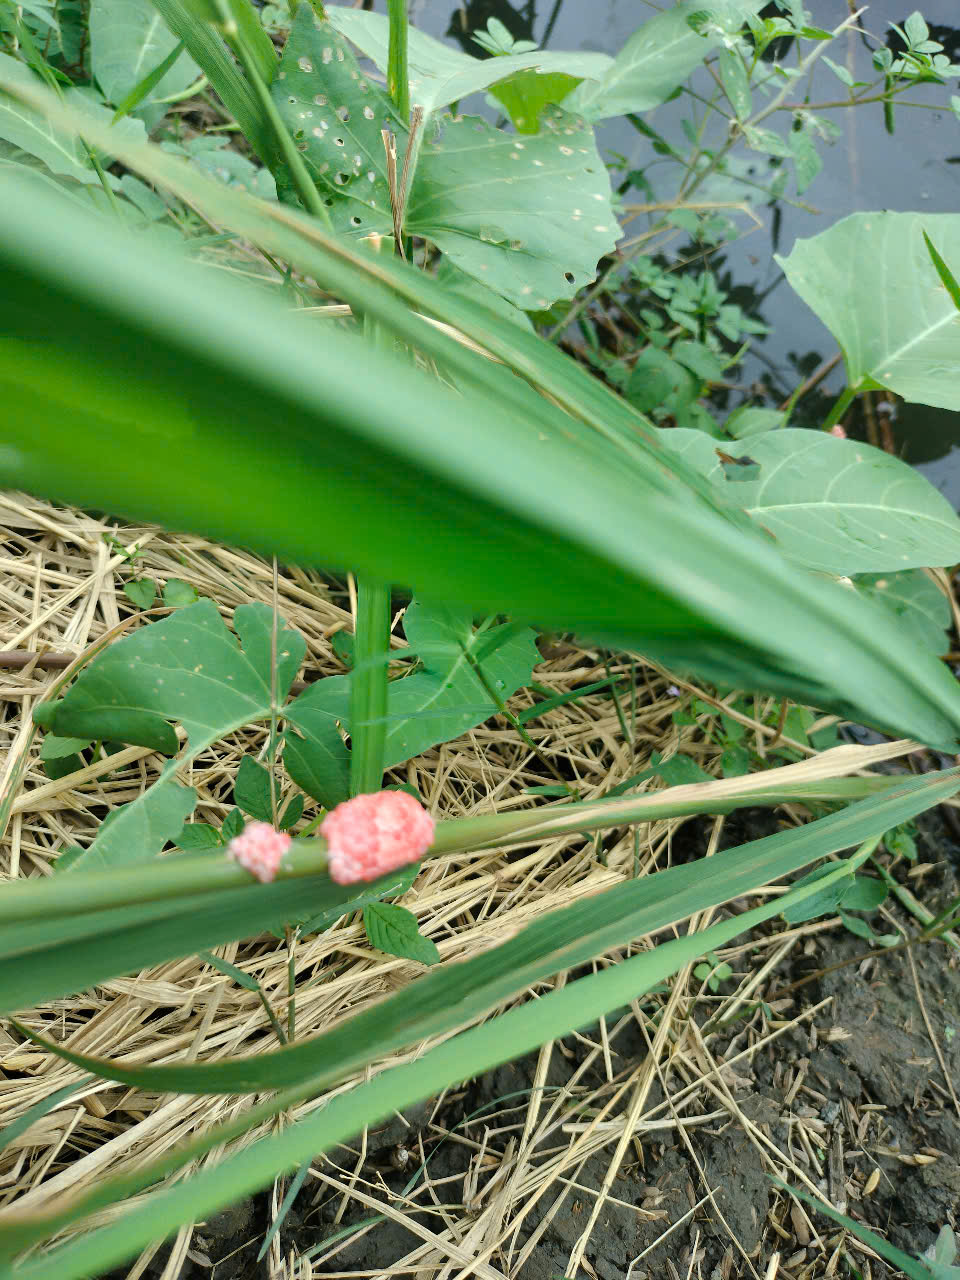trung_oc_buou_vang: (188, 768, 462, 896)
